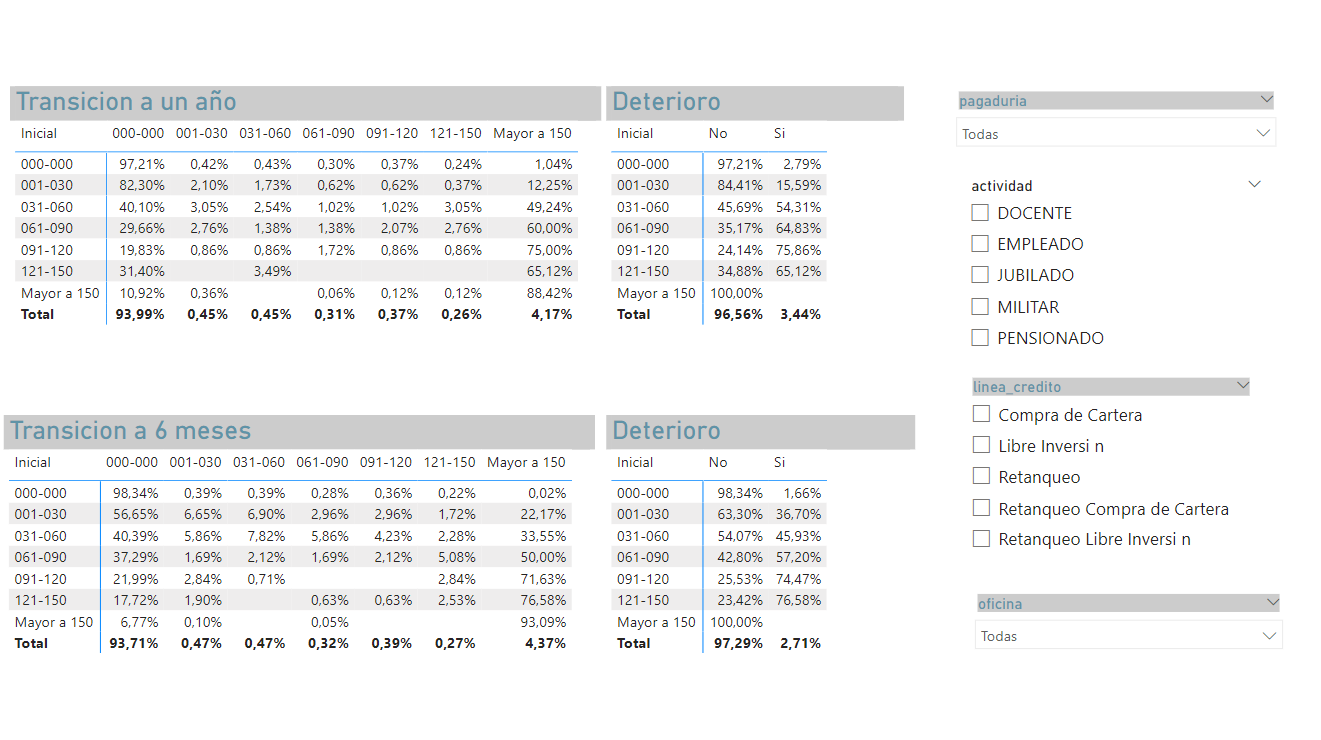

The dashboard page shown, as its layout file describes it:
{"tool":"powerbi","page":{"name":"matrix","canvas":[1280,720],"ordinal":0},"visuals":[{"type":"pivotTable","title":"Transicion  a un año","fields":{"Rows":["oneyear (2).Inicial"],"Columns":["oneyear (2).Final"],"Values":["CountNonNull(oneyear (2).numero_radicacion)"]},"box":[55.8,103.4,549.6,230.1],"z":0},{"type":"actionButton","box":[0,0,100,40],"z":1000},{"type":"pivotTable","title":"Deterioro","fields":{"Rows":["oneyear (2).Inicial"],"Columns":["oneyear (2).Deterioro"],"Values":["Min(oneyear (2).Inicial)"]},"box":[610,103.4,276.5,230.1],"z":2000},{"type":"pivotTable","title":"Transicion a 6 meses","fields":{"Values":["CountNonNull(sixmonth.numero_radicacion)"],"Rows":["sixmonth.Inicial"],"Columns":["sixmonth.Final"]},"box":[50,409,549.6,230.1],"z":3000},{"type":"pivotTable","title":"Deterioro","fields":{"Rows":["sixmonth.Inicial"],"Columns":["sixmonth.Deterioro"],"Values":["CountNonNull(sixmonth.numero_radicacion)"]},"box":[610,409,287,231.2],"z":4000},{"type":"slicer","fields":{"Values":["relation.pagaduria"]},"box":[924.9,103.4,318.4,79],"z":5000},{"type":"slicer","fields":{"Values":["relation.actividad"]},"box":[936.5,182.4,295.1,177.8],"z":6000},{"type":"slicer","fields":{"Values":["relation.linea_credito"]},"box":[937.7,369.5,283.5,199.9],"z":7000},{"type":"slicer","fields":{"Values":["relation.oficina"]},"box":[942.3,570.5,306.8,83.7],"z":8000}]}

Visuals, with their boxes in screenshot pixels (x1, y1, x2, y2), scaled from the page's 1280x720 canvas onto the 1321x740 screenshot:
"Transicion  a un año" pivotTable: bbox(58, 106, 625, 343)
actionButton: bbox(0, 0, 103, 41)
"Deterioro" pivotTable: bbox(630, 106, 915, 343)
"Transicion a 6 meses" pivotTable: bbox(52, 420, 619, 657)
"Deterioro" pivotTable: bbox(630, 420, 926, 658)
slicer - relation.pagaduria: bbox(955, 106, 1283, 187)
slicer - relation.actividad: bbox(966, 187, 1271, 370)
slicer - relation.linea_credito: bbox(968, 380, 1260, 585)
slicer - relation.oficina: bbox(972, 586, 1289, 672)
